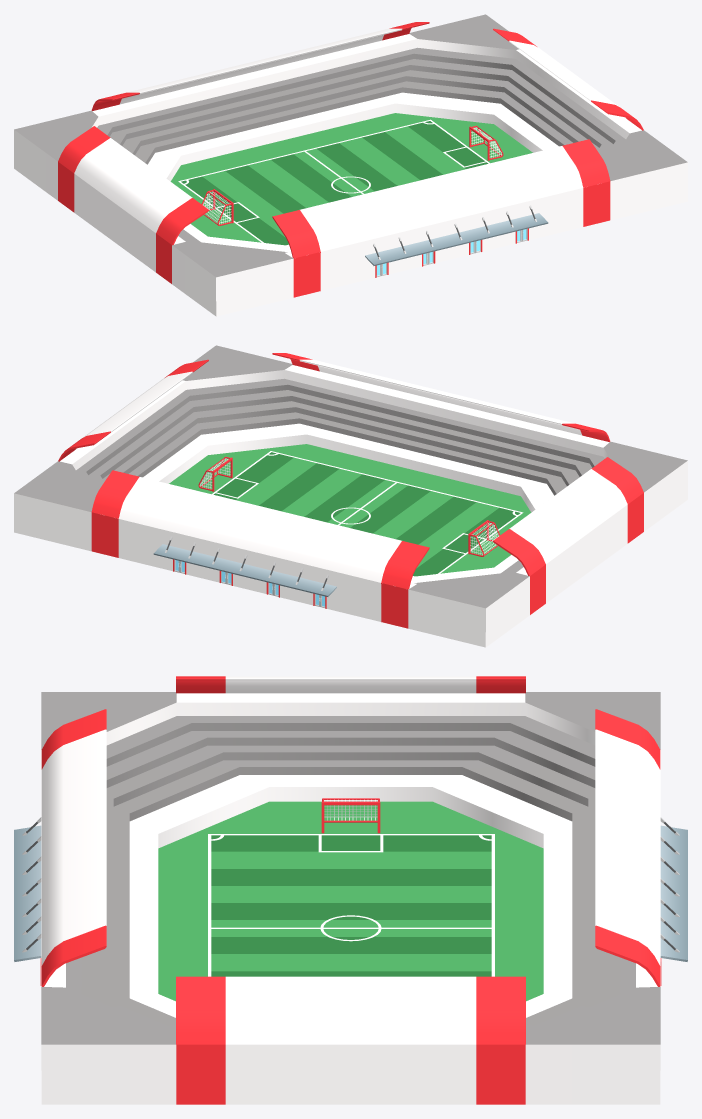
File: Stadium_02.glb
3 views of the same model, one above another, from view 1: azimuth 30°, elevation 25°; view 2: azimuth 150°, elevation 25°; view 3: azimuth 270°, elevation 25° (orthographic). The views are drawn at different scales.
Parts seen in each view (by area): view 1: Stadium_02; view 2: Stadium_02; view 3: Stadium_02.
Boxes of the visible parts, left/top/right/bottom form: Stadium_02: left=14, top=14, right=687, bottom=316; Stadium_02: left=14, top=345, right=687, bottom=647; Stadium_02: left=14, top=676, right=687, bottom=1104.
Size of the model in its own units: 72.08 by 9.63 by 58.22.
1 material, 1 textured.
